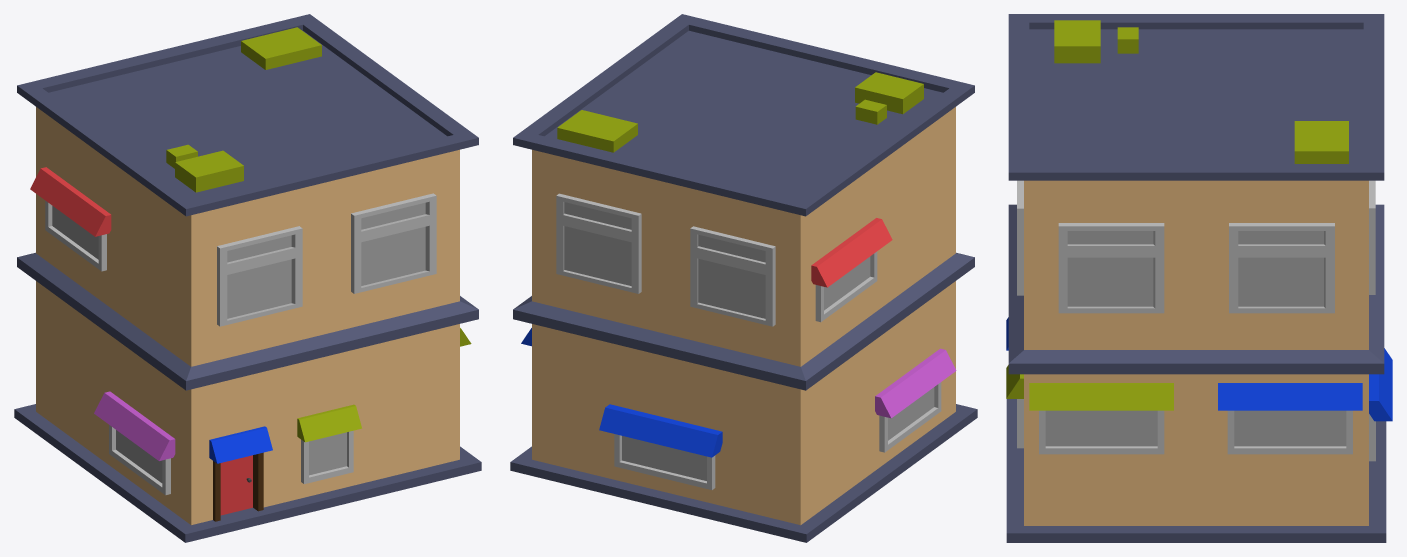
Rendered from Hendrik_Office.fbx.
The picture shows the model from 3 angles, left to right: view 1: azimuth 30°, elevation 25°; view 2: azimuth 150°, elevation 25°; view 3: azimuth 270°, elevation 25°; orthographic projection. The views are drawn at different scales.
Visible parts, largest first — view 1: Cube; view 2: Cube; view 3: Cube.
Part boxes in pixels (x1,y1,x2,y2): Cube: (14, 14, 481, 542); Cube: (510, 14, 977, 542); Cube: (1006, 14, 1392, 542).
Bounding box in the file's own units: 1192 × 1302 × 1201.
